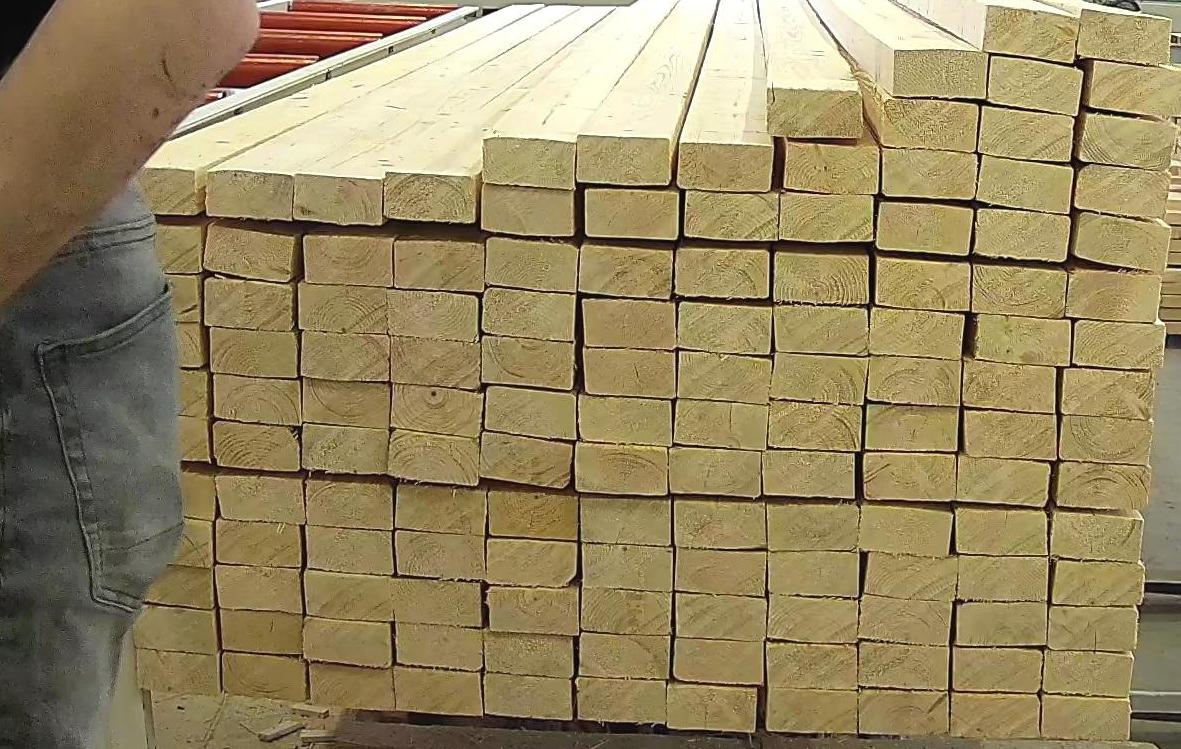Wood-Plank: (202, 218, 302, 282), (1072, 210, 1173, 270), (1076, 110, 1178, 168), (1084, 58, 1181, 118), (774, 245, 871, 304), (991, 54, 1085, 114), (111, 214, 207, 272), (978, 156, 1076, 212), (979, 104, 1075, 160), (1079, 9, 1173, 66), (877, 201, 975, 255), (1076, 163, 1172, 218), (876, 255, 972, 310), (579, 242, 673, 298), (678, 140, 777, 193), (303, 229, 395, 286), (986, 6, 1078, 63), (1070, 266, 1163, 322), (975, 207, 1073, 260), (388, 429, 479, 486), (487, 235, 579, 291), (482, 432, 574, 488), (482, 335, 575, 390), (482, 286, 576, 340), (978, 313, 1073, 366), (577, 134, 672, 187), (124, 465, 215, 520), (884, 146, 980, 198), (877, 101, 978, 150), (585, 188, 680, 240), (1063, 367, 1158, 419), (678, 245, 771, 298), (860, 503, 953, 556), (203, 276, 294, 330), (771, 354, 869, 404), (974, 264, 1068, 316), (1052, 510, 1146, 562), (579, 394, 673, 446), (966, 359, 1056, 413), (481, 134, 571, 188), (383, 172, 480, 222), (483, 184, 576, 236), (960, 454, 1053, 506), (872, 307, 966, 358), (395, 237, 485, 290), (486, 385, 576, 438), (868, 356, 963, 406), (681, 302, 772, 354), (896, 49, 992, 98), (775, 304, 869, 354), (575, 444, 669, 494), (387, 289, 479, 340), (676, 399, 768, 450), (391, 336, 481, 388), (131, 511, 213, 568), (292, 174, 385, 224), (584, 348, 677, 398), (680, 352, 773, 402), (687, 190, 779, 240), (782, 191, 874, 241), (767, 86, 859, 136), (393, 385, 483, 436), (862, 595, 952, 646), (1057, 461, 1154, 508), (581, 496, 672, 546), (489, 489, 578, 540), (306, 478, 393, 530), (670, 447, 762, 496), (302, 618, 392, 668), (129, 603, 217, 654), (583, 300, 676, 348), (1061, 416, 1154, 464), (966, 412, 1059, 460), (769, 402, 862, 450), (764, 450, 857, 498), (1077, 319, 1168, 368), (668, 683, 759, 732), (298, 282, 387, 332), (958, 508, 1050, 556), (868, 404, 960, 452), (486, 538, 578, 586), (866, 452, 958, 500), (209, 328, 297, 378), (212, 420, 300, 470), (215, 474, 303, 524), (305, 572, 393, 622), (786, 143, 874, 193), (676, 500, 767, 548), (215, 564, 302, 614), (397, 484, 484, 534), (1046, 650, 1136, 698), (489, 588, 579, 636), (868, 554, 958, 602), (861, 642, 951, 690), (208, 169, 292, 220), (768, 504, 861, 550), (396, 532, 485, 580), (393, 580, 482, 628), (394, 668, 483, 716), (583, 544, 672, 592), (303, 378, 390, 427), (213, 374, 298, 424), (221, 652, 306, 702), (302, 424, 387, 474), (959, 556, 1051, 602), (577, 677, 667, 724), (770, 596, 860, 643), (302, 332, 390, 380), (678, 548, 766, 596), (676, 594, 767, 640), (768, 644, 859, 690), (581, 633, 670, 680), (396, 624, 483, 672), (1052, 605, 1140, 652), (485, 673, 573, 720), (129, 364, 208, 416), (485, 632, 574, 678), (861, 690, 950, 736), (128, 562, 213, 610), (1056, 562, 1148, 606), (673, 640, 765, 684), (124, 319, 206, 368), (955, 647, 1044, 692), (958, 602, 1049, 646), (769, 552, 860, 596), (583, 590, 671, 635), (309, 664, 395, 710), (305, 528, 391, 574), (125, 414, 209, 461), (1044, 696, 1133, 740), (769, 690, 858, 734), (954, 694, 1042, 738), (217, 520, 301, 566), (136, 650, 220, 696), (219, 609, 302, 654), (123, 273, 200, 320), (116, 173, 196, 215)
